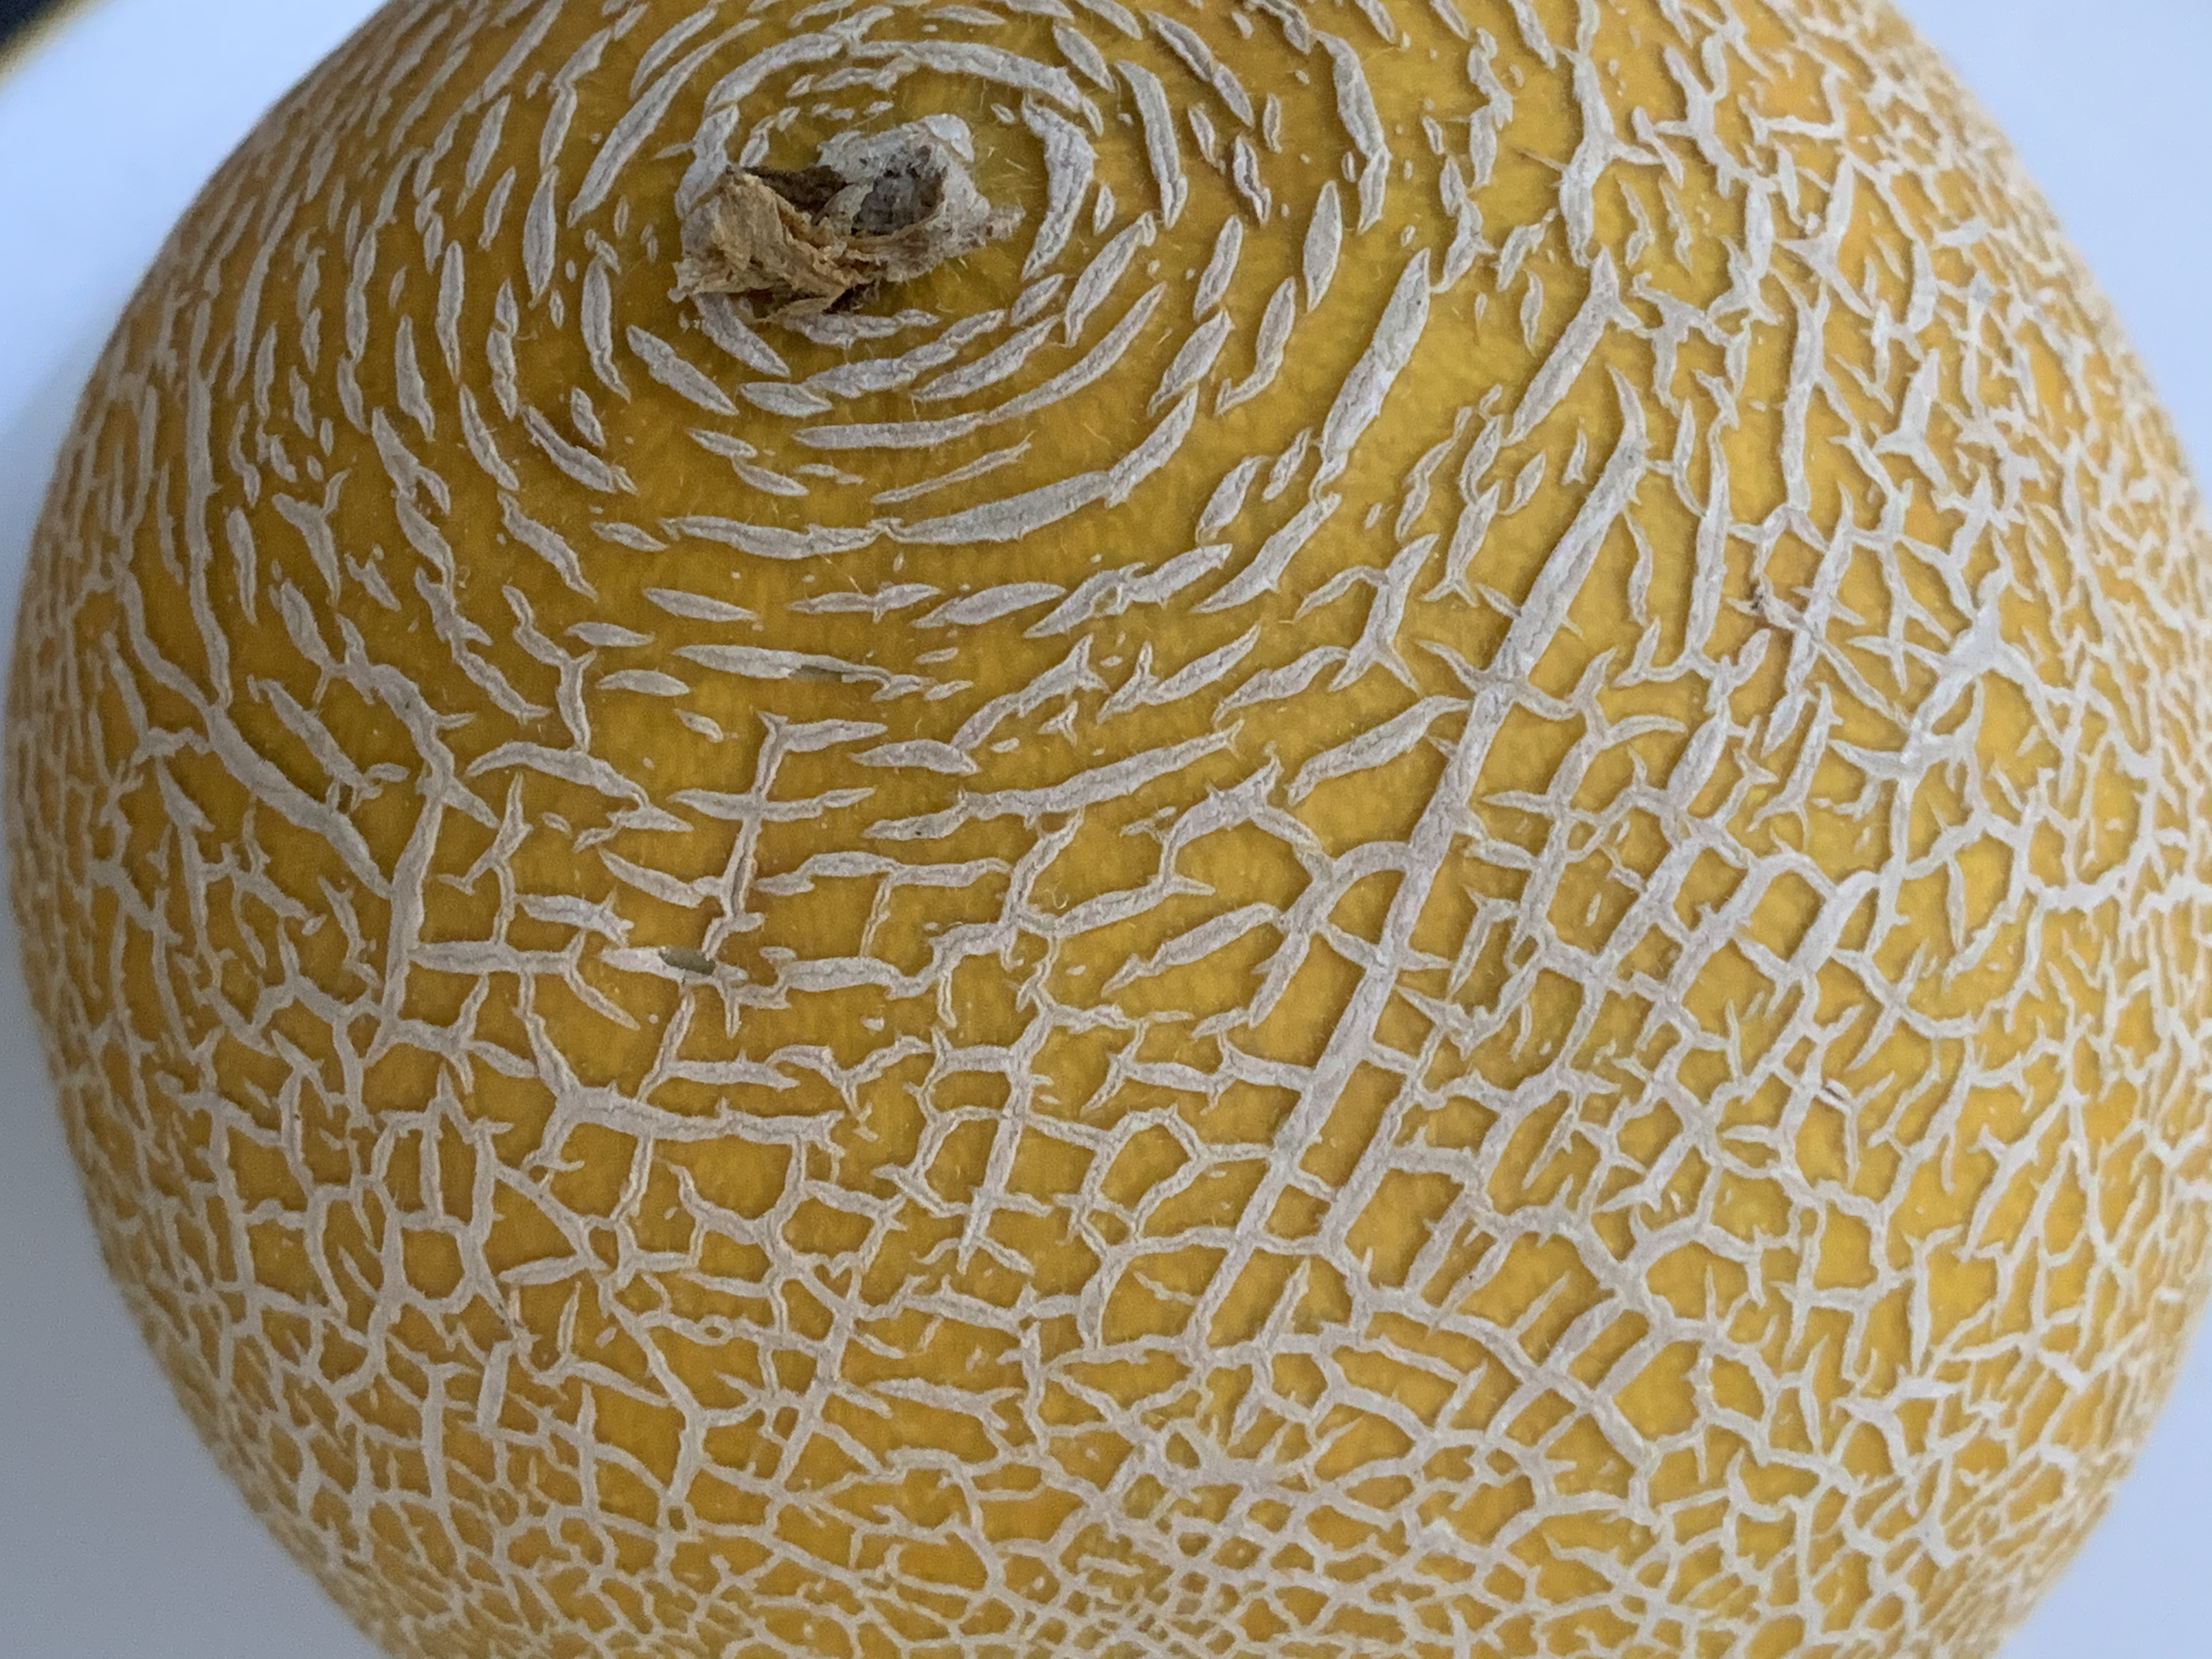galia melon: (24, 16, 2212, 1645)
